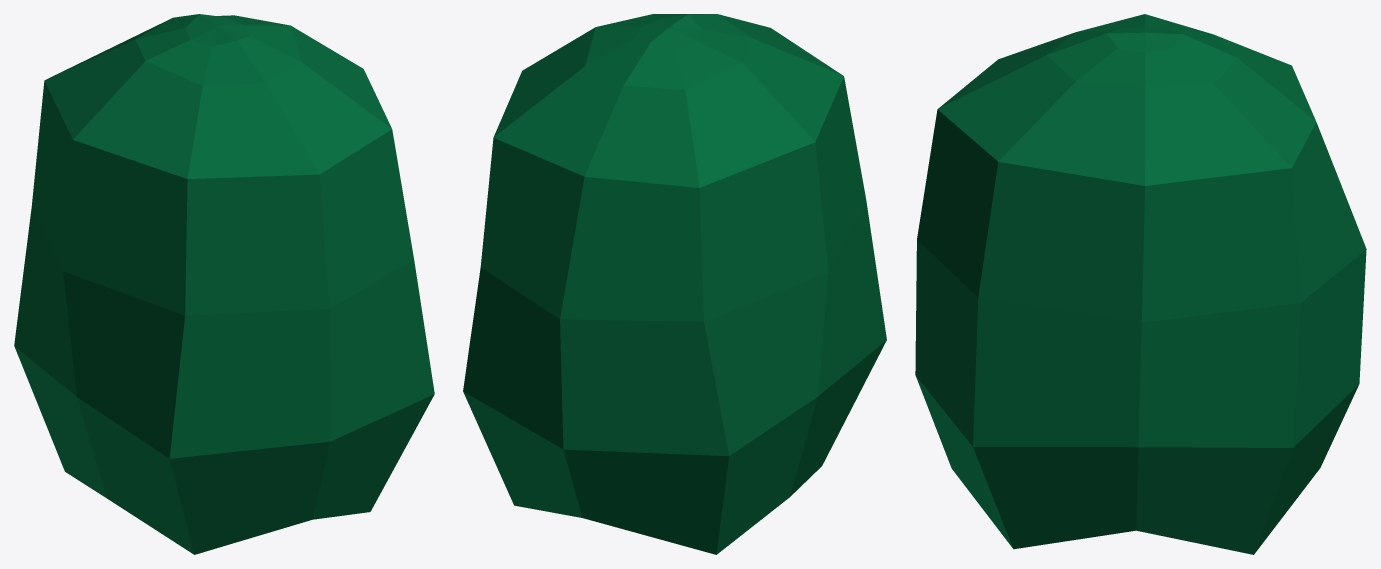
The model's file is Arbusto5.fbx.
3 renders of one model, left to right at view 1: azimuth 30°, elevation 25°; view 2: azimuth 150°, elevation 25°; view 3: azimuth 270°, elevation 25°, orthographic. The views are drawn at different scales.
Parts seen in each view (by area): view 1: Sphere.003; view 2: Sphere.003; view 3: Sphere.003.
Boxes of the visible parts, x1,y1,x2,y2 form: Sphere.003: (14,14,434,554); Sphere.003: (463,14,886,554); Sphere.003: (915,14,1366,554).
Size of the model in its own units: 106 by 149 by 129.
